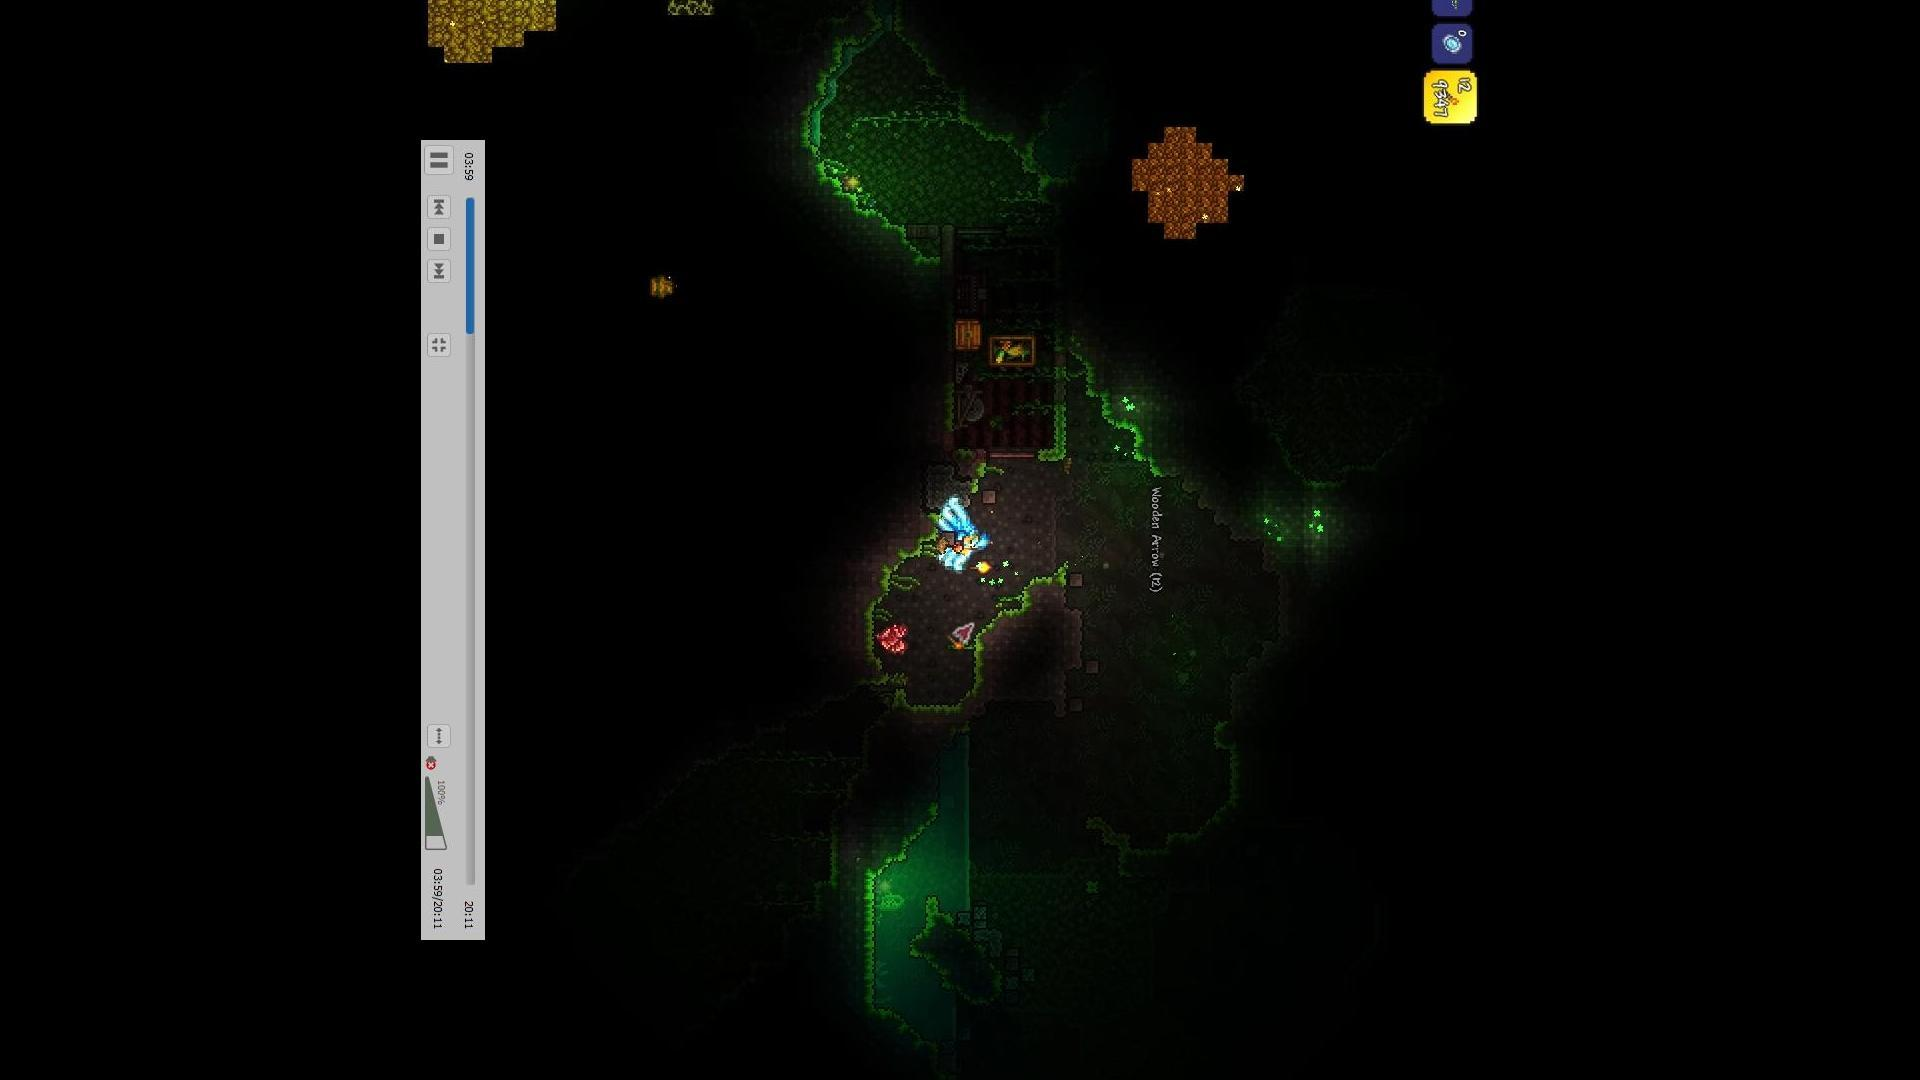lifeC: (873, 617, 916, 657)
mirror: (1441, 30, 1464, 54)
